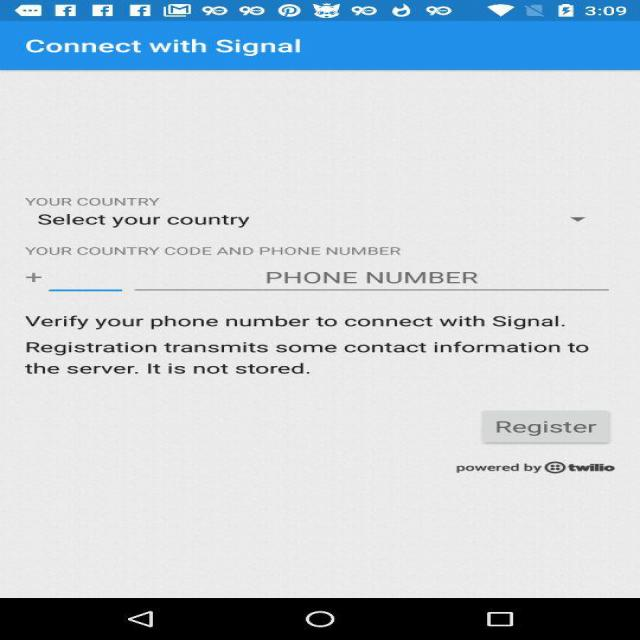button: (468, 405, 628, 463)
text: (27, 25, 640, 402)
